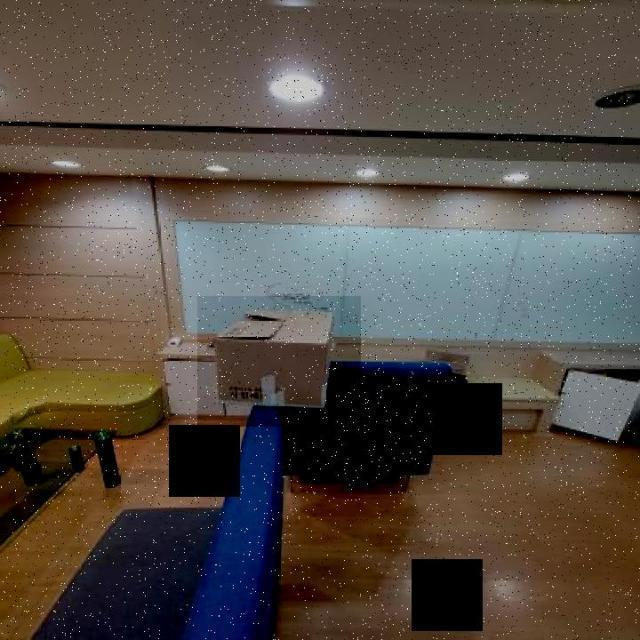box: (197, 296, 361, 427)
